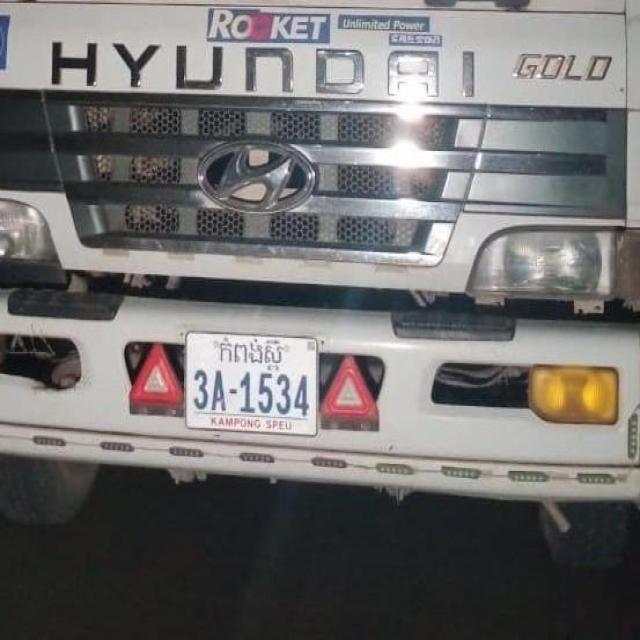Kampong_Speu: (220, 335, 284, 371)
